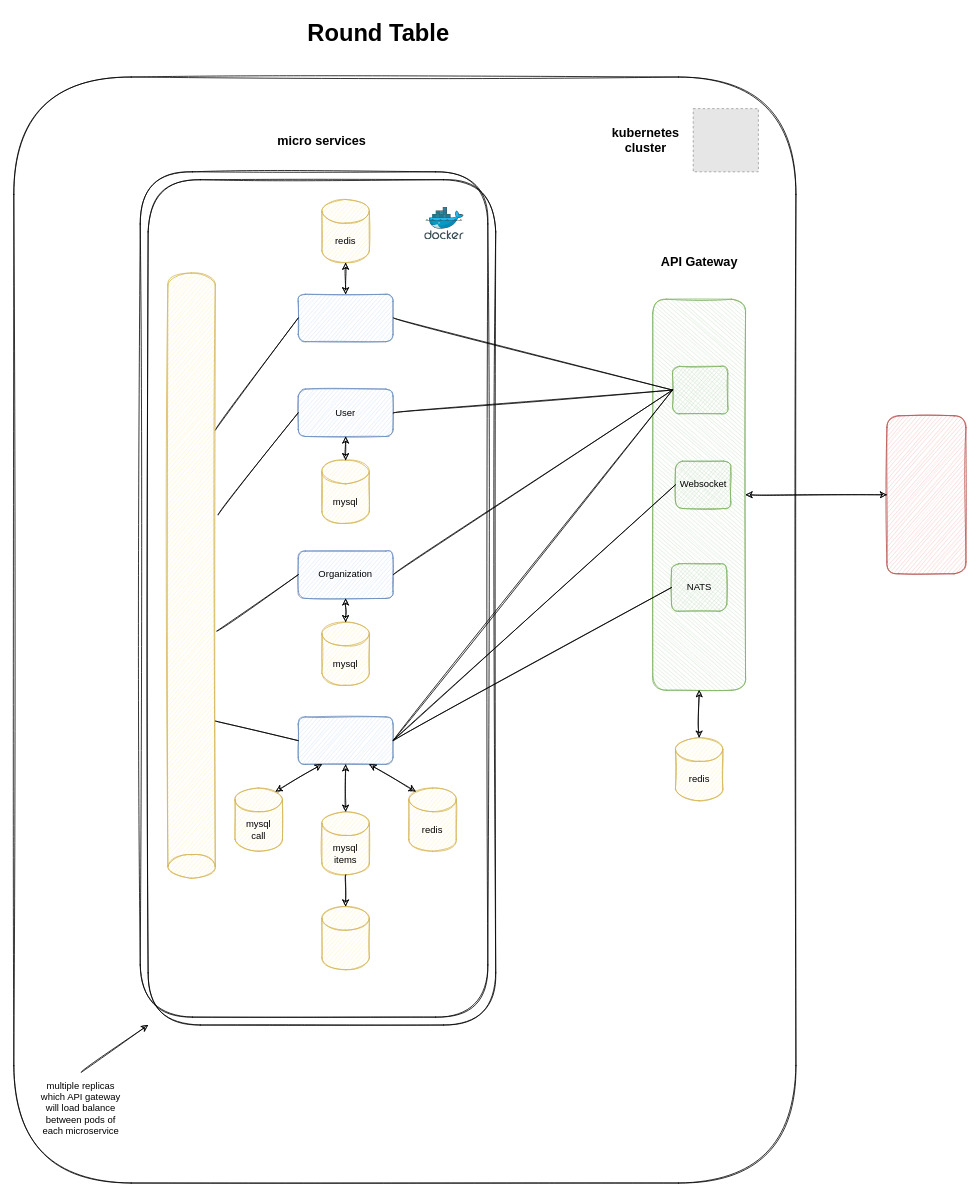
The diagram is 980 pixels wide and 1197 high, and some of its shapes have lost their labels. Grey dashed boxes stand in for pictures. The shapes that lost their labels are listed below. From the top down, each one's centre as x and y in pixels, then its label:
point (345, 317): Auth
point (700, 390): REST
point (926, 494): CLIENT
point (191, 575): Message Broker
point (345, 740): Session
point (345, 938): Amazon S3
